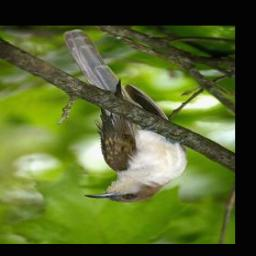Cuckoo: (62, 30, 190, 204)
